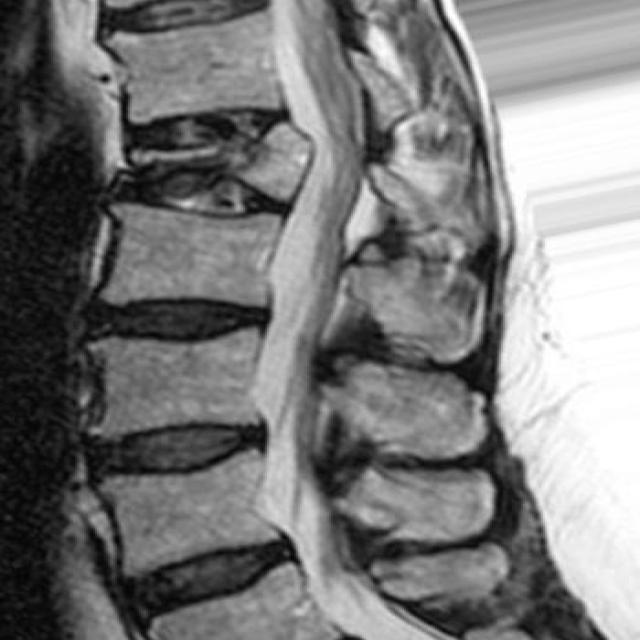Comminuted: (89, 86, 331, 228)
